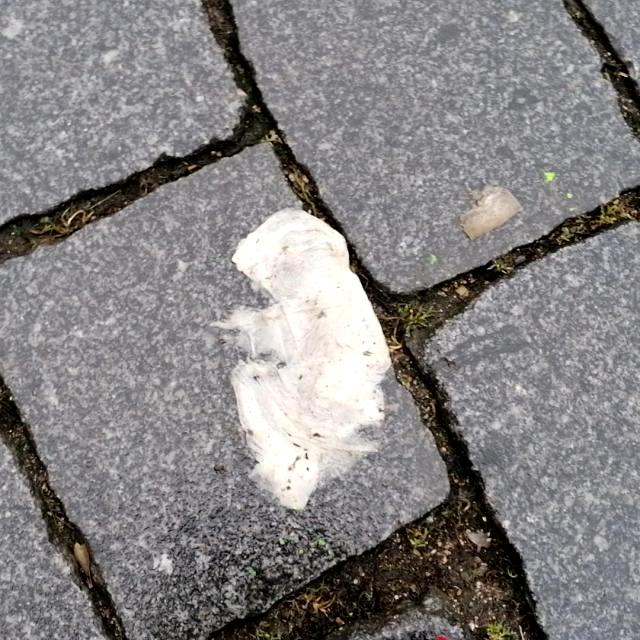Paper: (209, 202, 395, 514)
